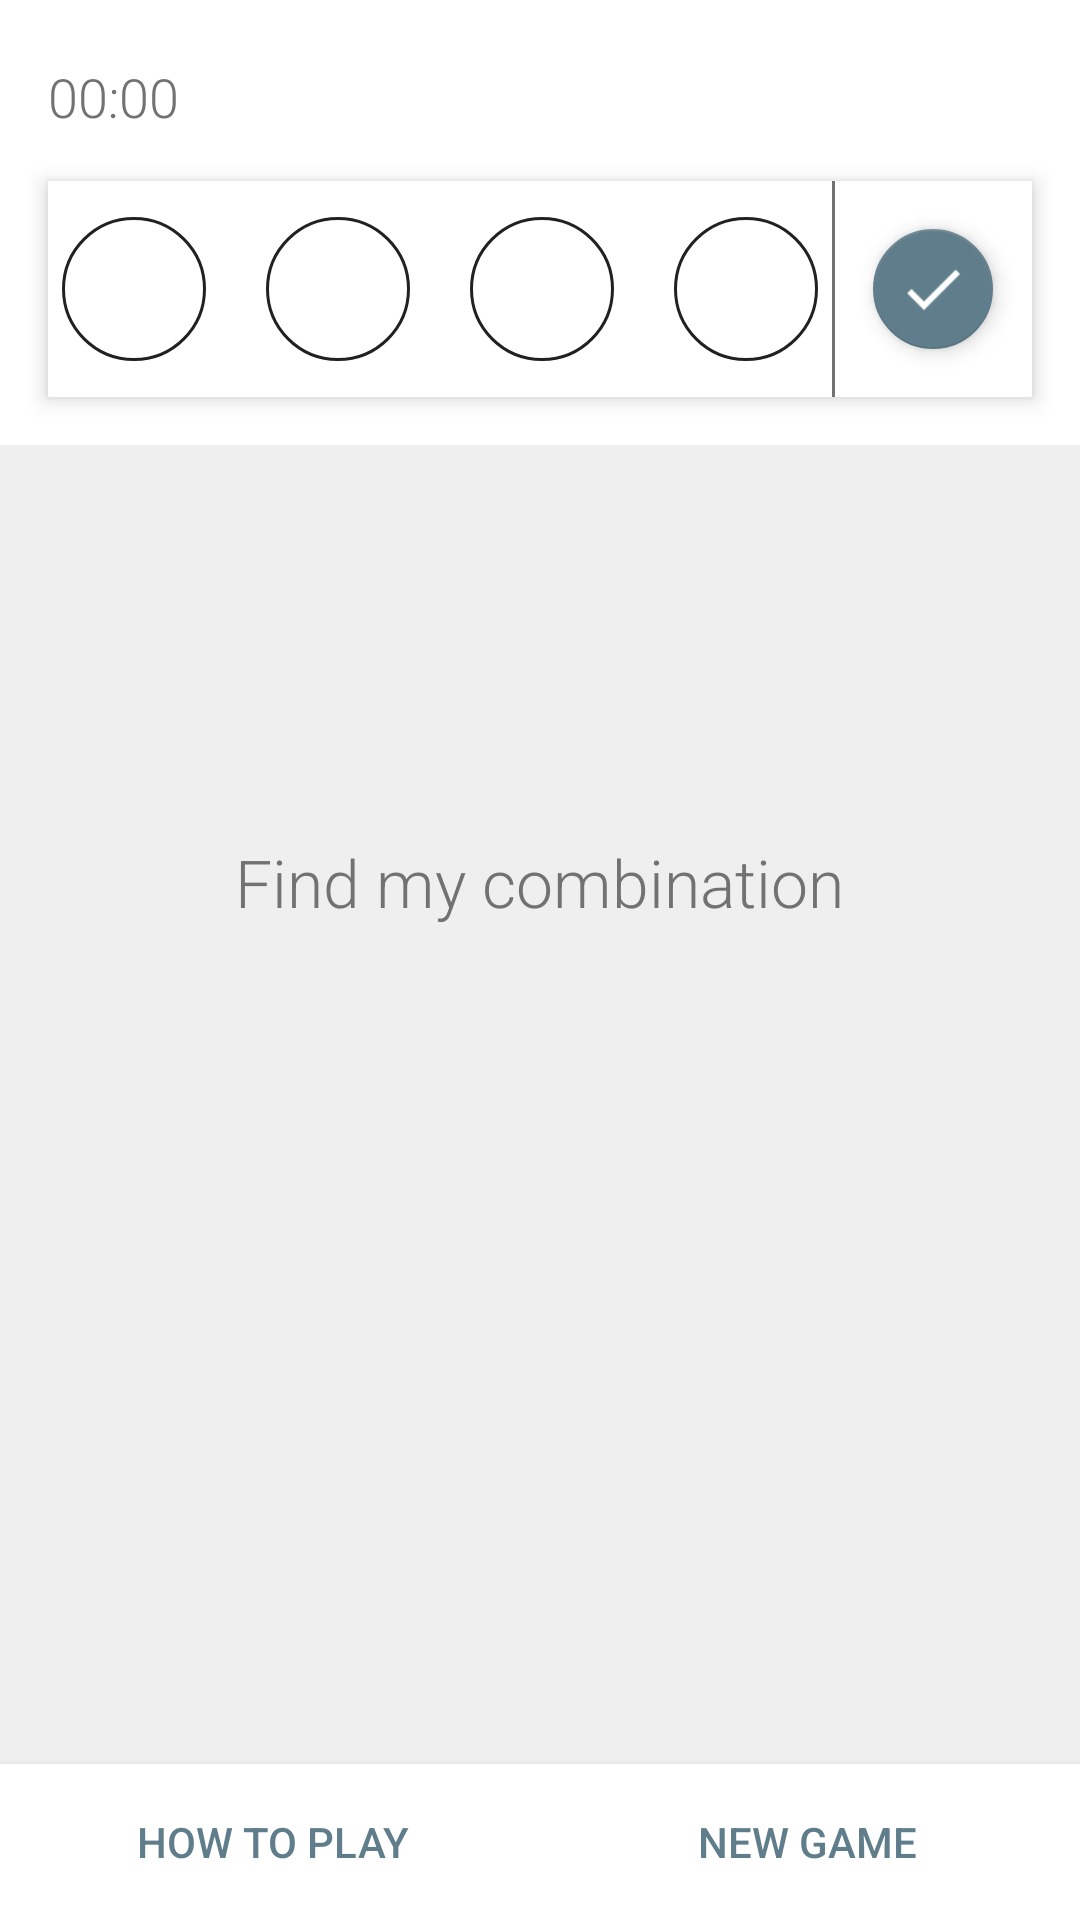

Icon bounding boxes for this 1080px x 1920px phone screenshot, format (x1, y1, x2, y2):
circle: (62, 217, 206, 361), (266, 217, 410, 361), (470, 217, 614, 361), (674, 217, 818, 361)
done: (873, 229, 993, 349)
